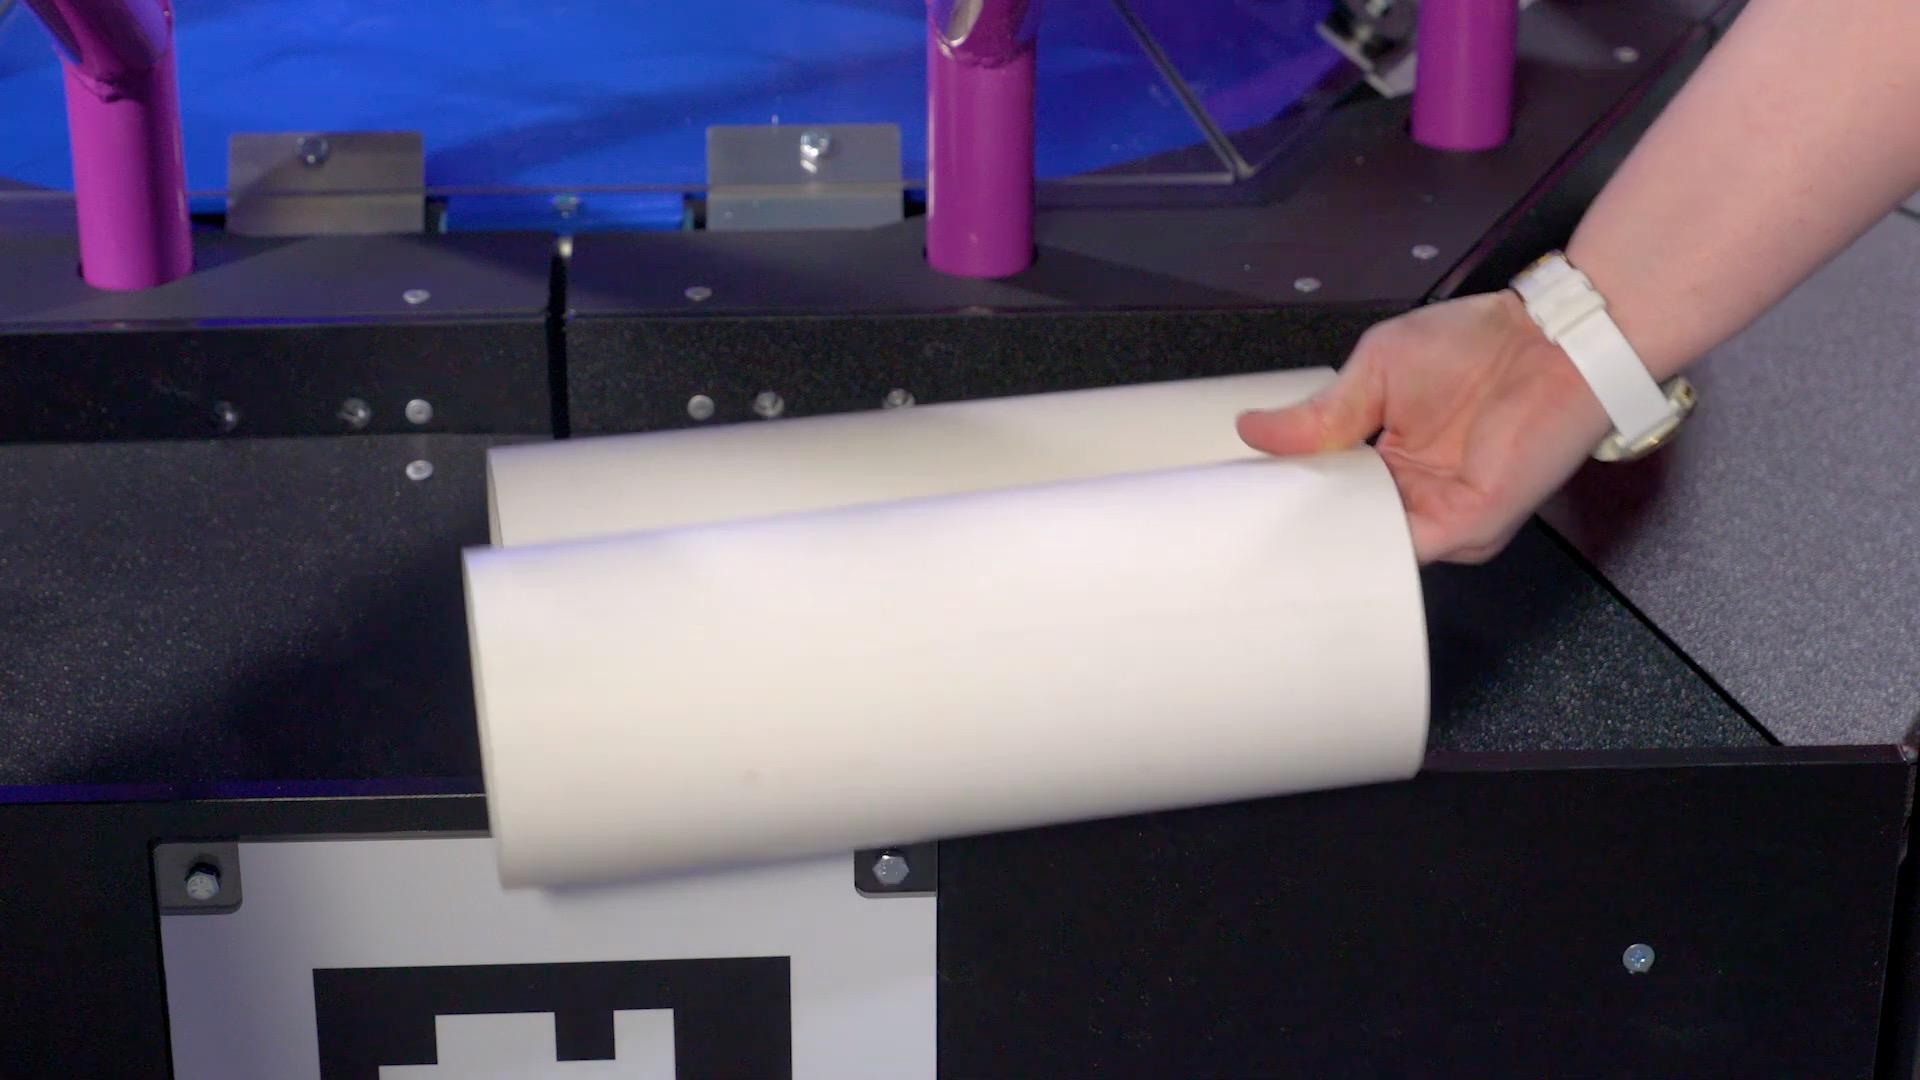CORAL: (458, 446, 1434, 891), (488, 364, 1366, 550)
